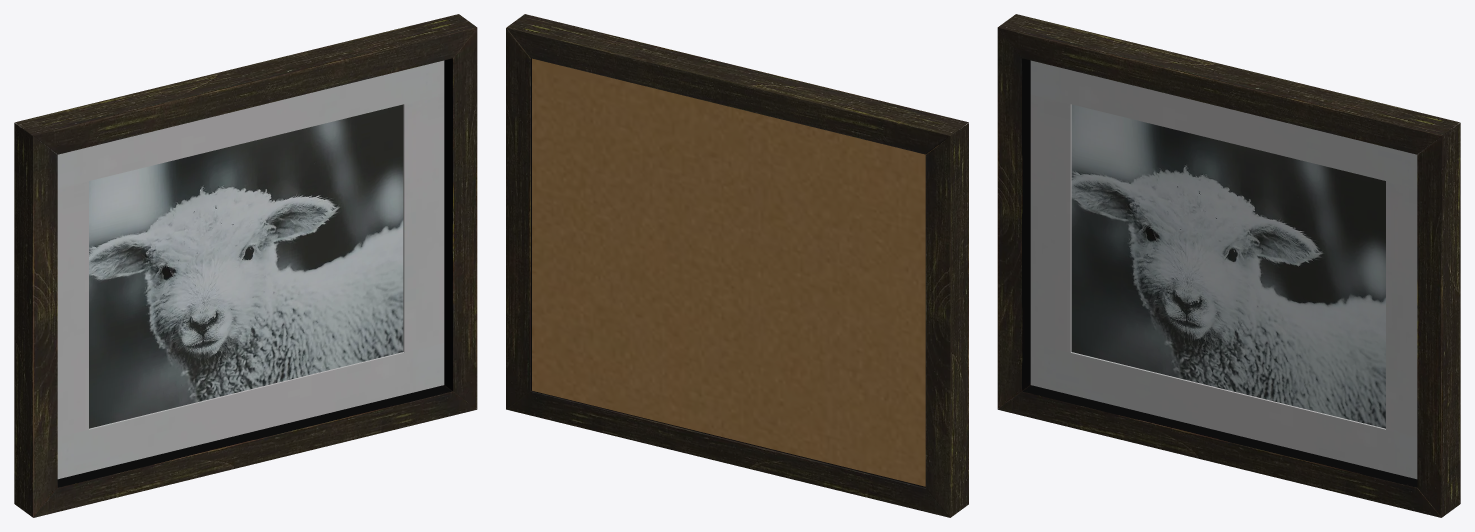
The model's file is abo-B075YL2S9V.glb.
The picture shows the model from 3 angles, left to right: view 1: azimuth 30°, elevation 25°; view 2: azimuth 150°, elevation 25°; view 3: azimuth 330°, elevation 25°; orthographic projection.
Size of the model in its own units: 0.381 by 0.313 by 0.028.
1 material, 1 textured.
